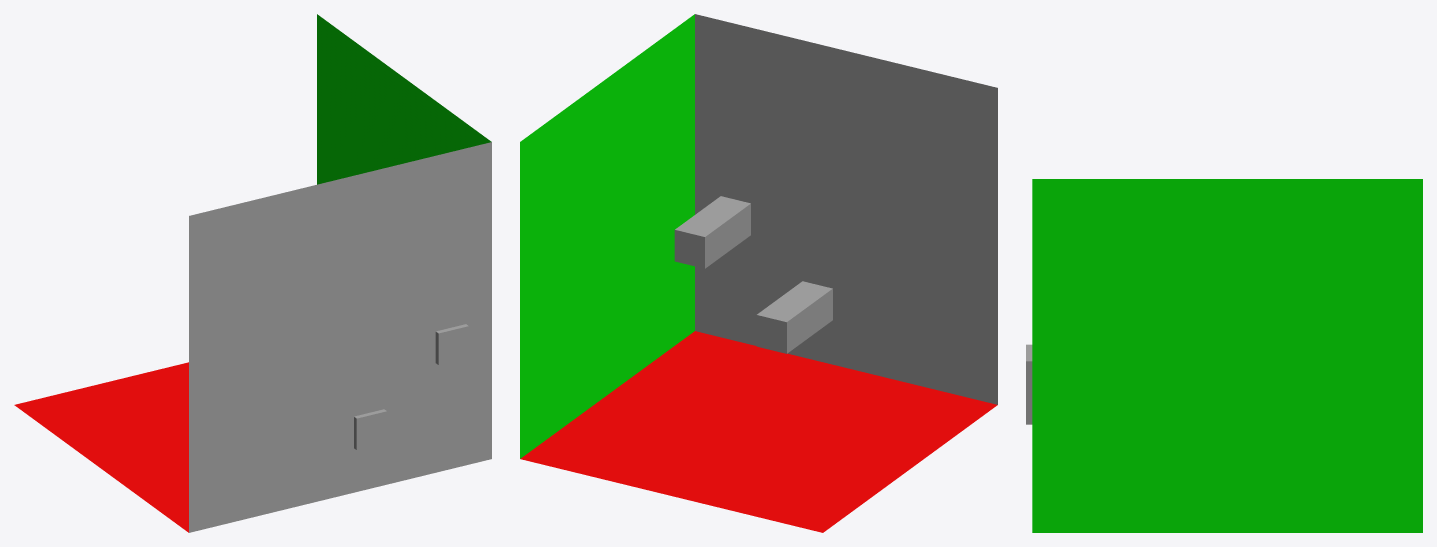
Rendered from rsmtest.dae.
3 views of the same model, side by side, from view 1: azimuth 30°, elevation 25°; view 2: azimuth 150°, elevation 25°; view 3: azimuth 270°, elevation 25° (orthographic). The views are drawn at different scales.
Parts seen in each view (by area): view 1: Plane; view 2: Plane; view 3: Plane.
Part boxes in pixels (box(x1,y1,x2,y2)): Plane: box(14, 14, 491, 532); Plane: box(520, 14, 997, 532); Plane: box(1026, 179, 1422, 532).
Size of the model in its own units: 20 by 20.32 by 20.
3 materials, 3 textured.
